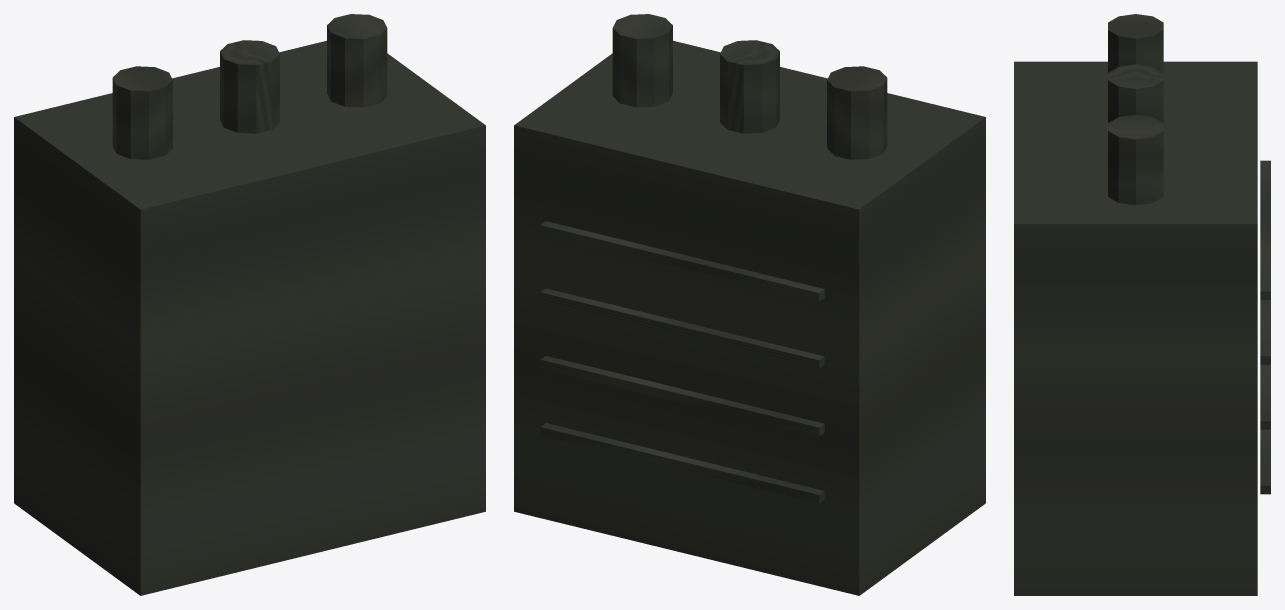
The model's file is prop_transformer_coil_a.glb.
3 renders of one model, left to right at view 1: azimuth 30°, elevation 25°; view 2: azimuth 150°, elevation 25°; view 3: azimuth 270°, elevation 25°, orthographic. The views are drawn at different scales.
Visible parts, largest first — view 1: prop_transformer_coil_a; view 2: prop_transformer_coil_a; view 3: prop_transformer_coil_a.
Part boxes in pixels (x1,y1,x2,y2): prop_transformer_coil_a: (14,14,485,595); prop_transformer_coil_a: (514,14,985,595); prop_transformer_coil_a: (1014,14,1270,595).
Bounding box in the file's own units: 1.45 × 1.83 × 0.97.
1 material, 1 textured.
